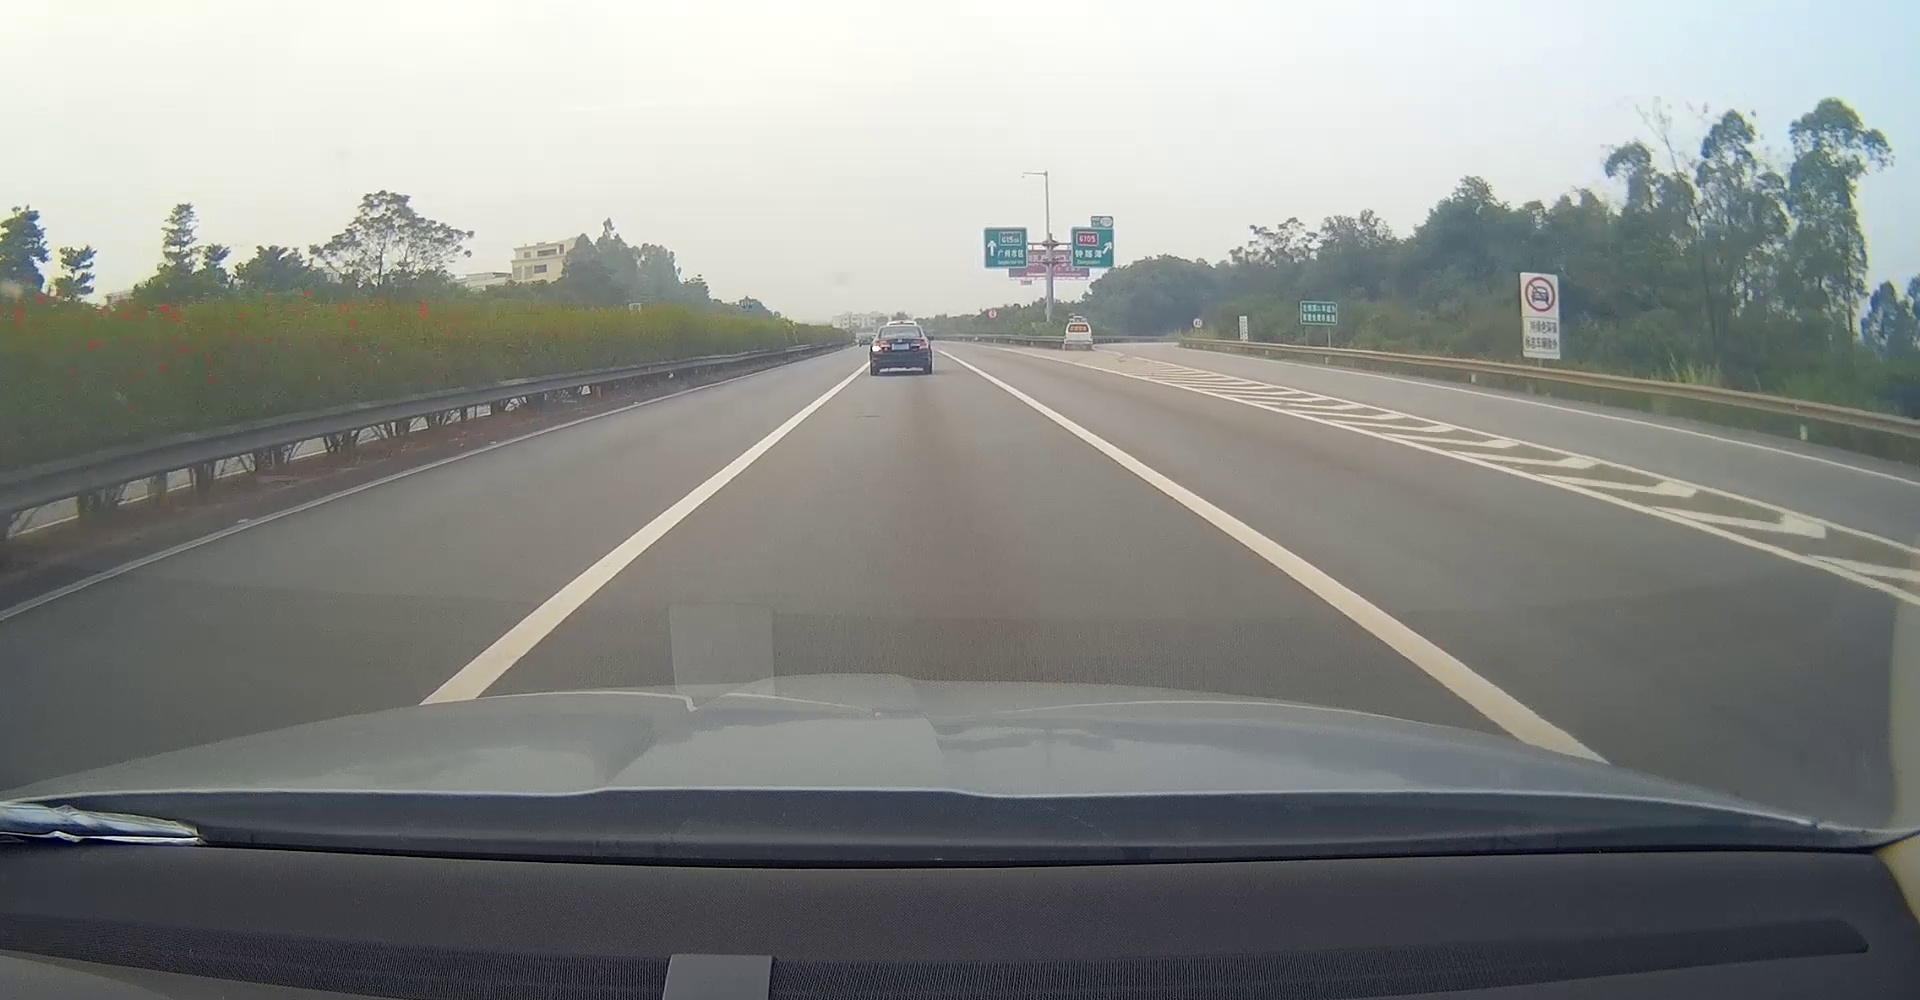L_light: (872, 343, 890, 352)
R_light: (910, 341, 928, 349)
T_light: (897, 327, 904, 330)
day-left: (870, 324, 932, 376)
